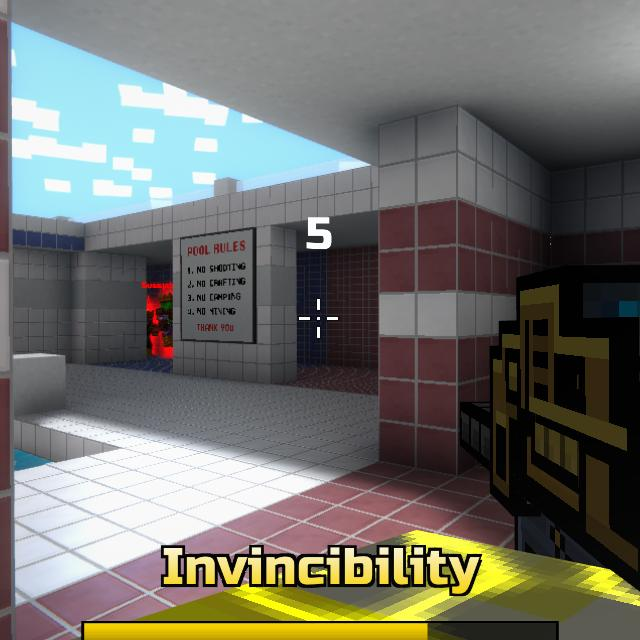Enemy: (156, 292, 173, 347), (146, 312, 158, 355)
